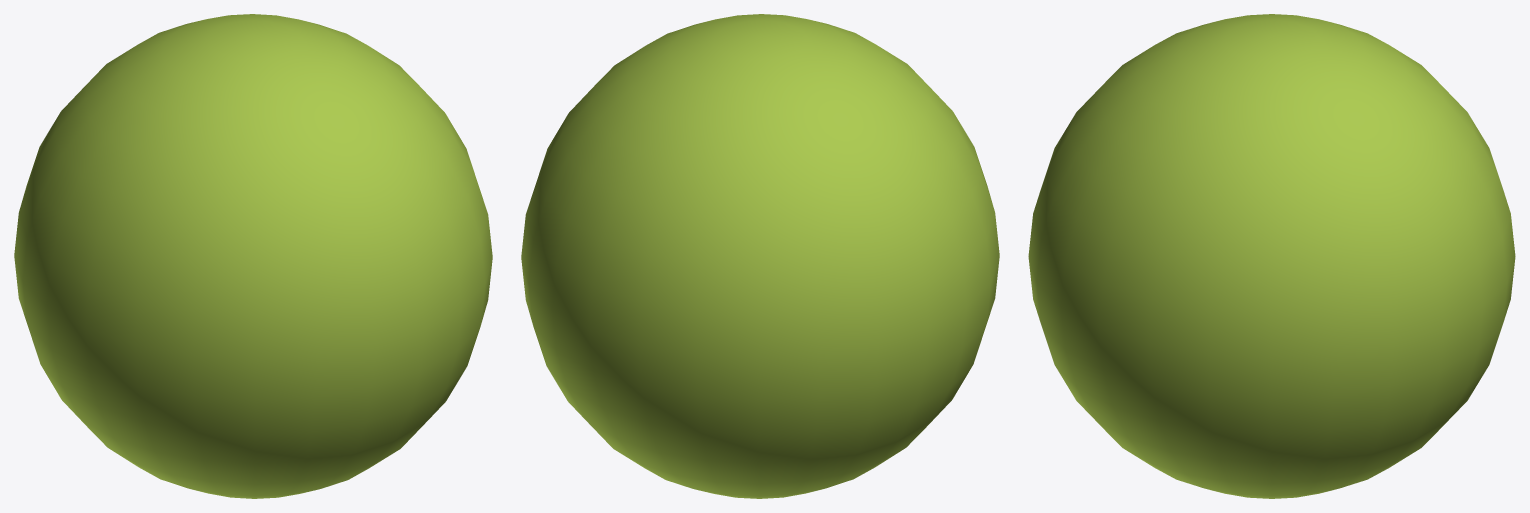
Rendered from SM_EG_Fruit_green_apple_Plain_acaa02ebf6.fbx.
3 views of the same model, side by side, from view 1: azimuth 30°, elevation 25°; view 2: azimuth 150°, elevation 25°; view 3: azimuth 270°, elevation 25° (orthographic).
Visible parts, largest first — view 1: SM_EG_Fruit_green_apple_Plain_acaa02ebf6; view 2: SM_EG_Fruit_green_apple_Plain_acaa02ebf6; view 3: SM_EG_Fruit_green_apple_Plain_acaa02ebf6.
Boxes of the visible parts, <box> form: SM_EG_Fruit_green_apple_Plain_acaa02ebf6: <box>14,14,492,498</box>; SM_EG_Fruit_green_apple_Plain_acaa02ebf6: <box>521,14,999,498</box>; SM_EG_Fruit_green_apple_Plain_acaa02ebf6: <box>1028,14,1515,498</box>.
Size of what is drawn, in the model's own units: 19.6 by 20 by 20.
